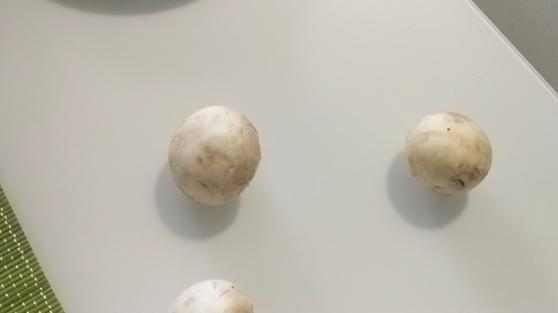champignon: (168, 105, 265, 208), (409, 109, 495, 190), (168, 277, 247, 313)
